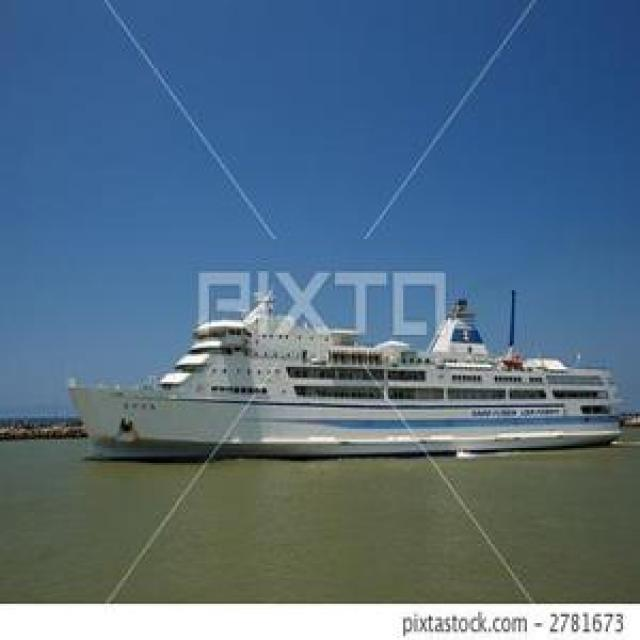passenger ship: (67, 297, 621, 455)
